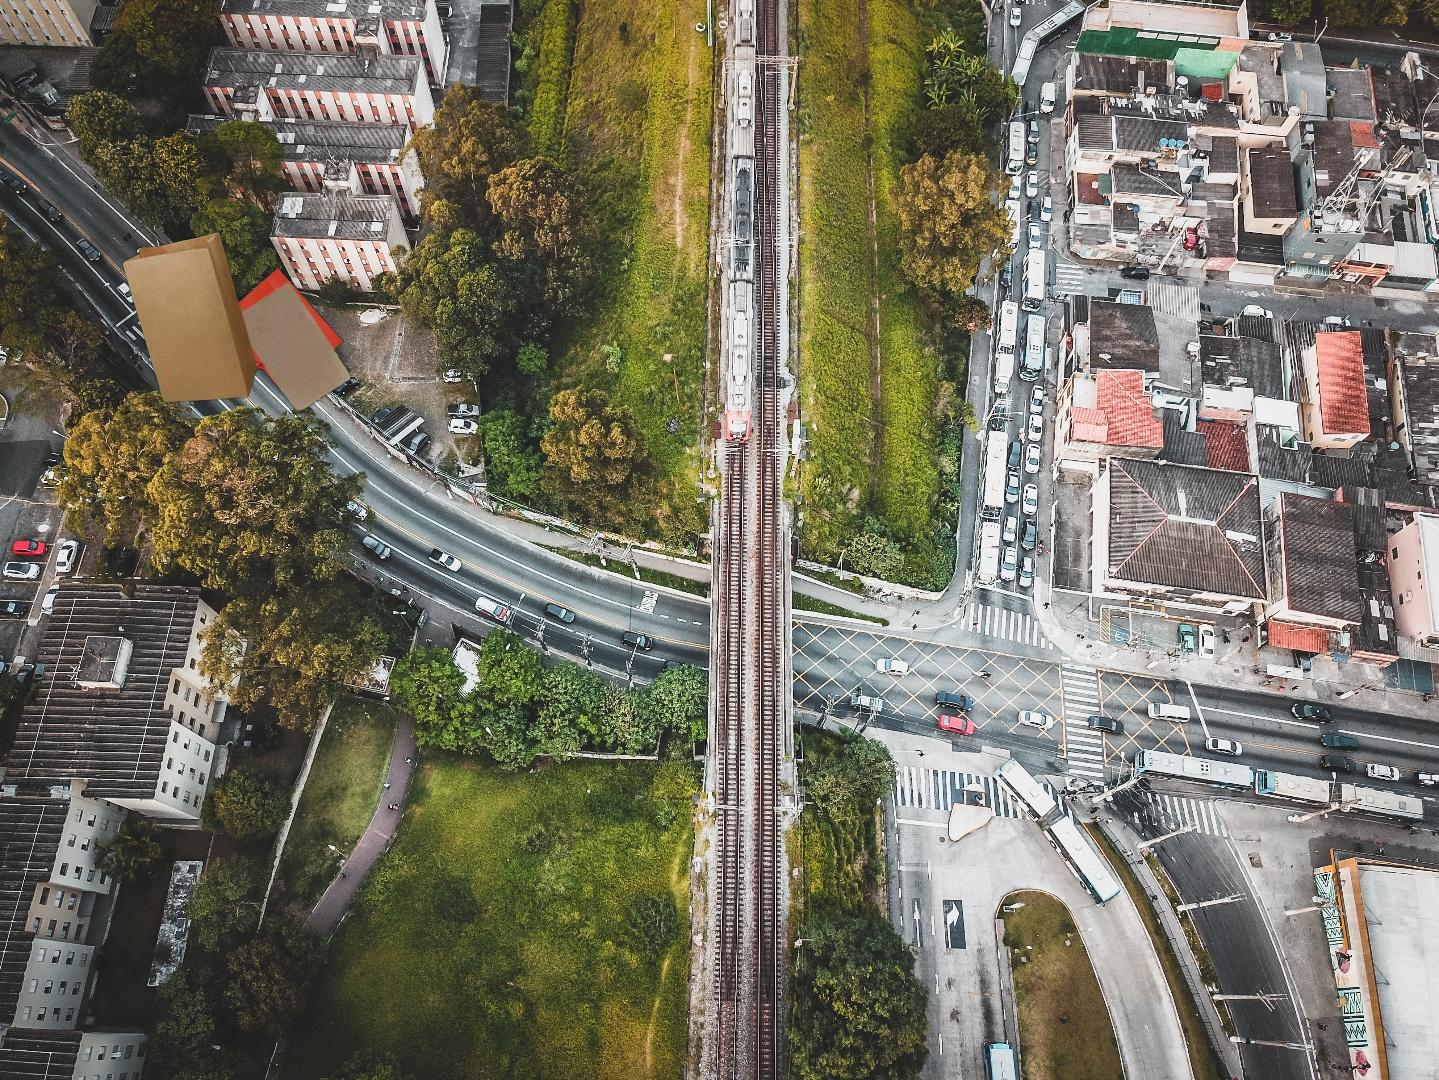paper-bag: (119, 229, 354, 416)
